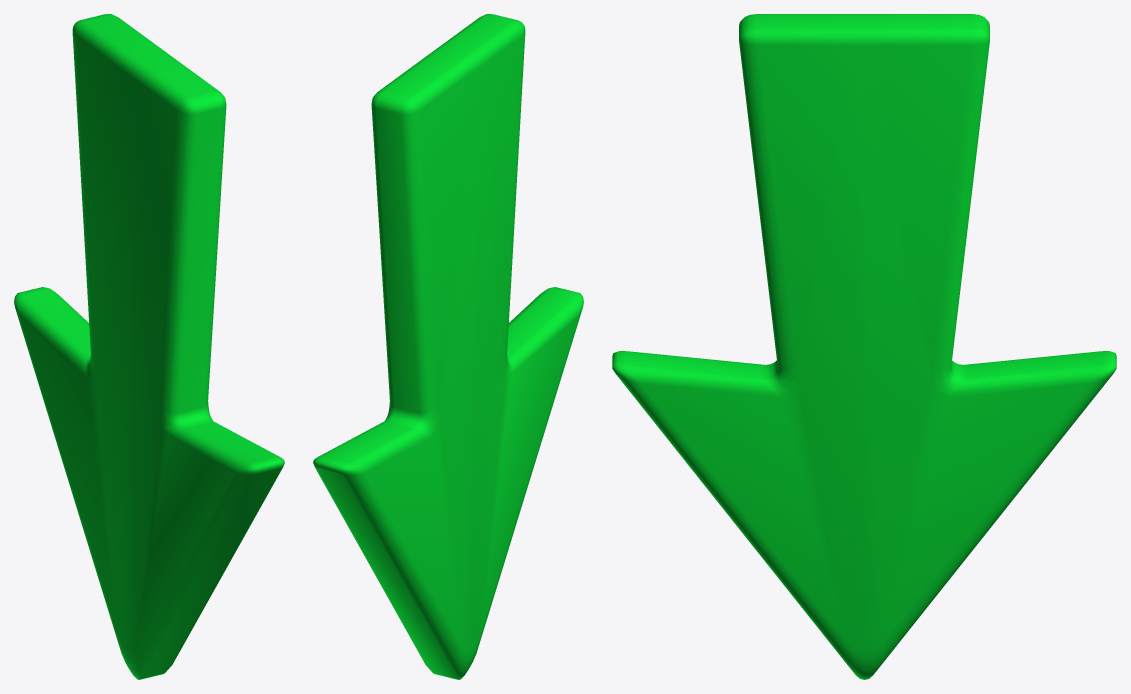
Rendered from hint-arrow.fbx.
3 renders of one model, left to right at view 1: azimuth 30°, elevation 25°; view 2: azimuth 150°, elevation 25°; view 3: azimuth 270°, elevation 25°, orthographic. The views are drawn at different scales.
Parts seen in each view (by area): view 1: Arrow; view 2: Arrow; view 3: Arrow.
Part boxes in pixels (x1=…): Arrow: x1=14, y1=14, x2=284, y2=679; Arrow: x1=313, y1=14, x2=583, y2=679; Arrow: x1=612, y1=14, x2=1116, y2=679.
Bounding box in the file's own units: 23.43 × 301 × 211.
